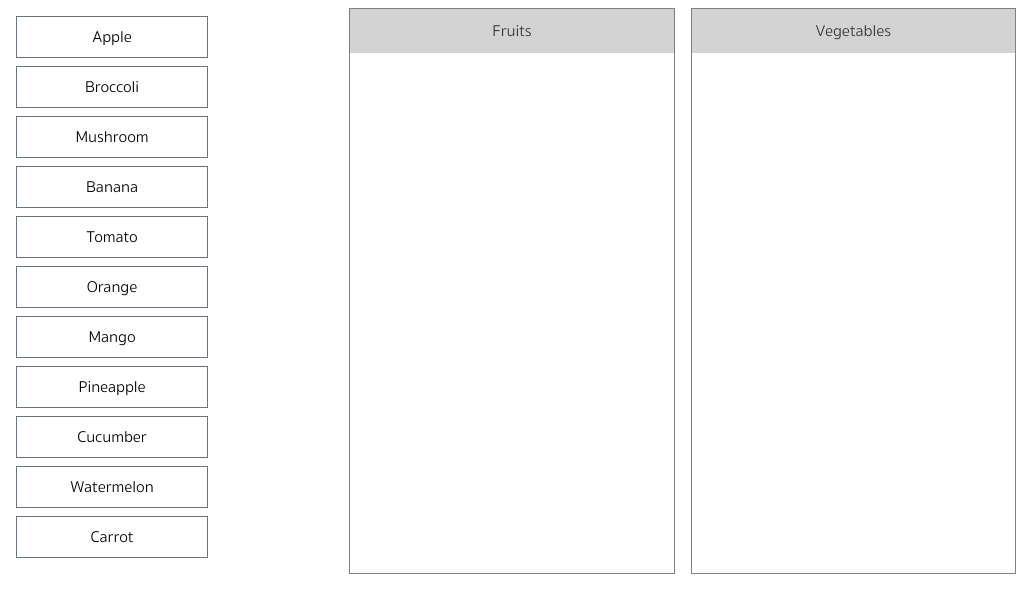
Scenario: Landing Component › when click item vegetable should move a vegetable item to the vegetable list
Click the button "Broccoli" at (112, 87), box [16, 66, 208, 108]
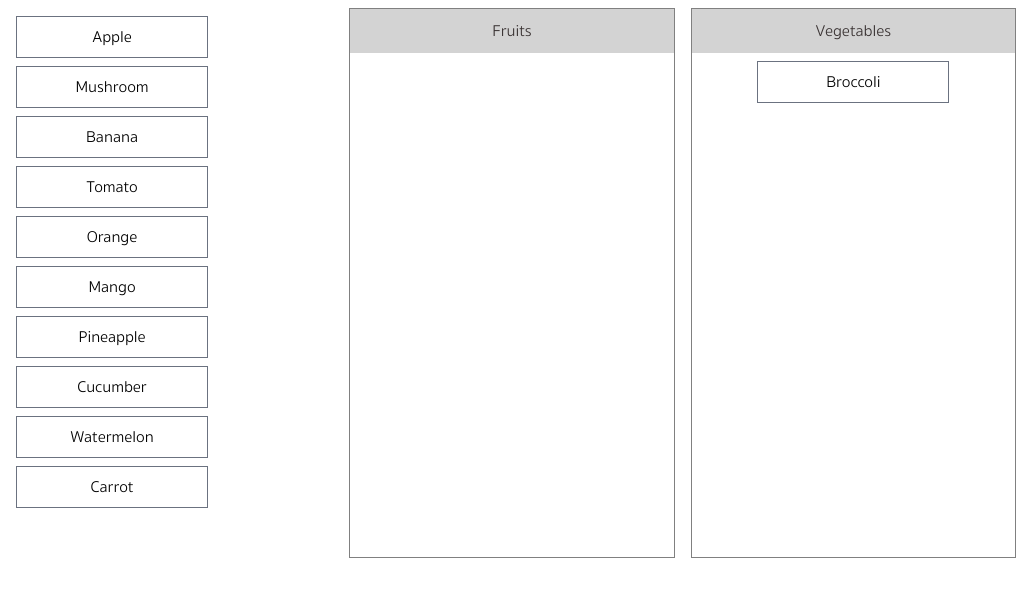
Expected: the button "Broccoli" is shown, [757, 61, 949, 103]
